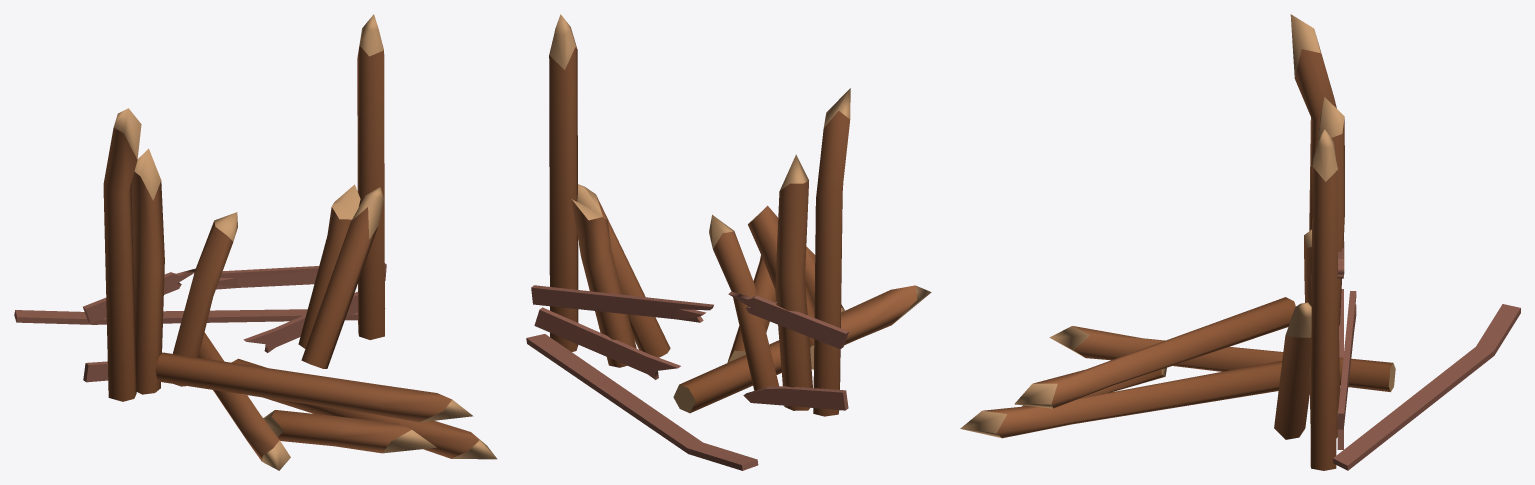
File: Fence_WoodC_F.fbx
3 views of the same model, side by side, from view 1: azimuth 30°, elevation 25°; view 2: azimuth 150°, elevation 25°; view 3: azimuth 270°, elevation 25° (orthographic). The views are drawn at different scales.
Visible parts, largest first — view 1: Fence_WoodC_F; view 2: Fence_WoodC_F; view 3: Fence_WoodC_F.
Part boxes in pixels (box(x1,y1,x2,y2)): Fence_WoodC_F: box(14, 14, 497, 470); Fence_WoodC_F: box(526, 14, 931, 470); Fence_WoodC_F: box(960, 14, 1520, 470).
Bounding box in the file's own units: 564 × 577 × 852.
